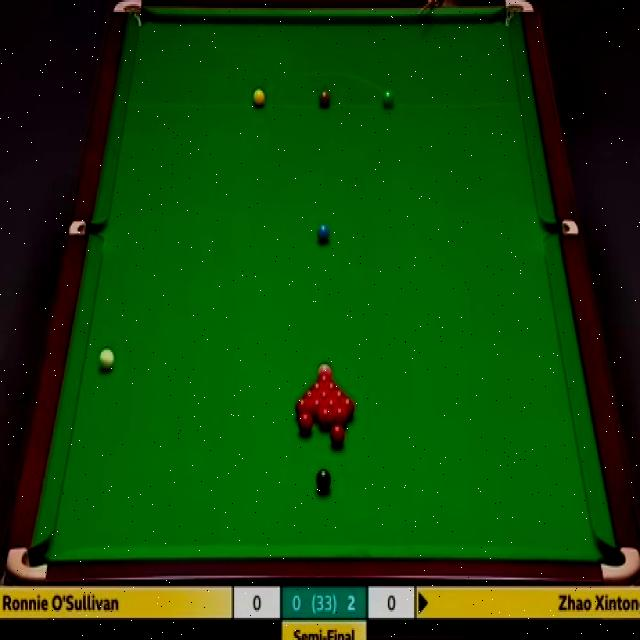black-ball: (316, 469, 330, 491)
blue-ball: (316, 222, 331, 242)
brown-ball: (318, 87, 331, 110)
green-ball: (381, 87, 394, 109)
pink-ball: (317, 363, 334, 376)
red-ball: (334, 406, 348, 429), (300, 413, 314, 434), (331, 425, 344, 447), (318, 408, 332, 428), (310, 399, 324, 418), (334, 389, 346, 411), (341, 396, 354, 416), (295, 400, 310, 417), (326, 400, 338, 419), (303, 391, 317, 399), (317, 392, 334, 398)
white-ball: (98, 346, 115, 372)
yellow-ball: (252, 89, 266, 109)
